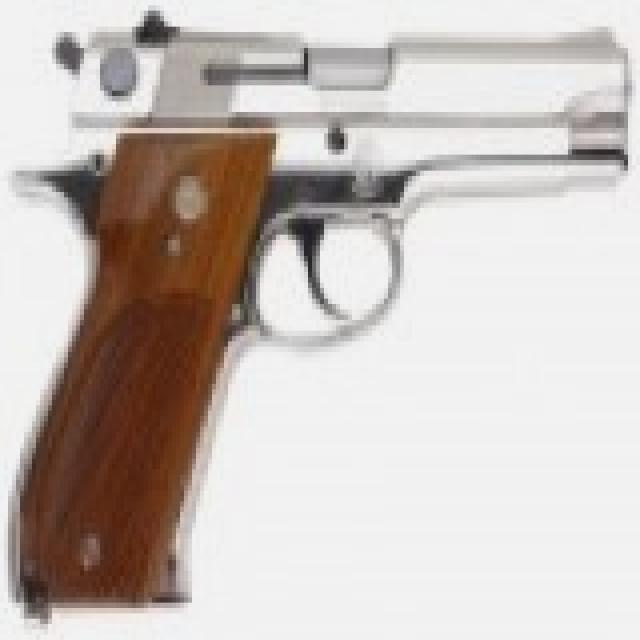pistol: (0, 0, 624, 613)
